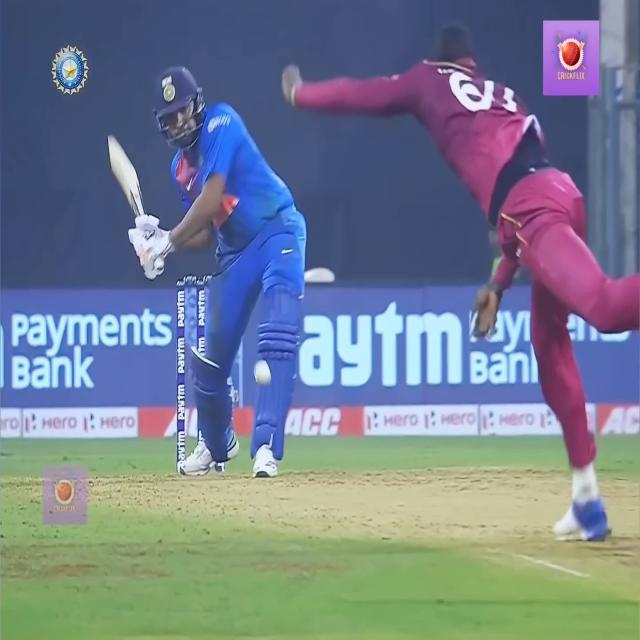partially_visible: (303, 305, 463, 394)
